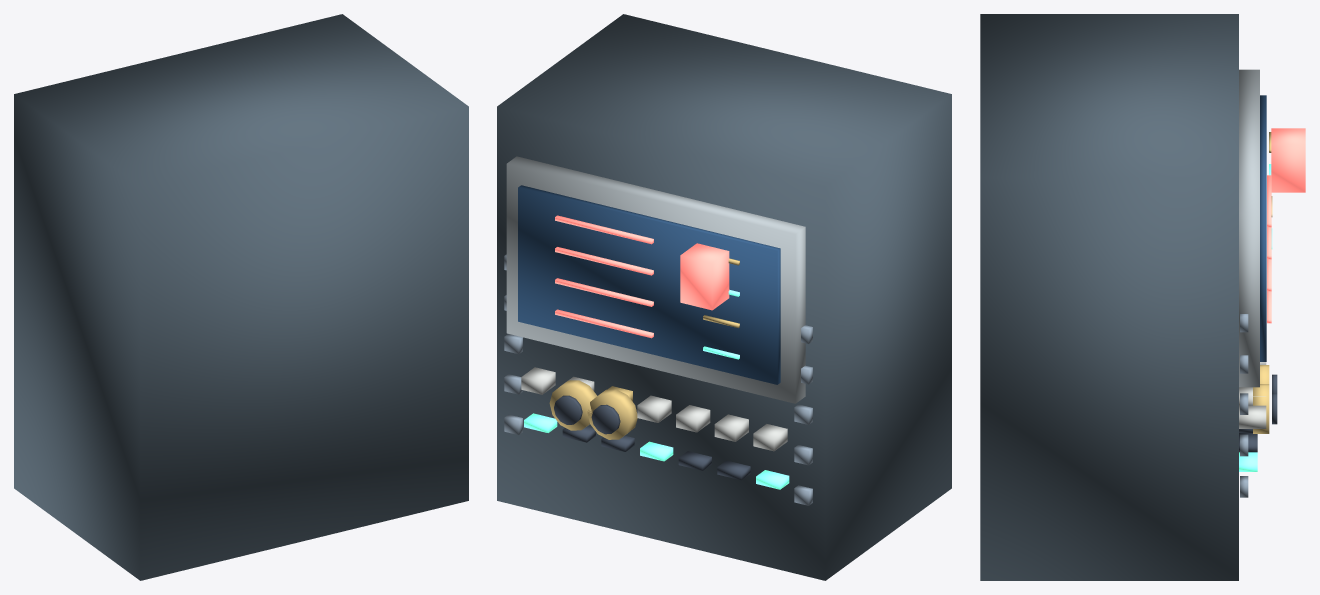
File: L84_74_EmergencyAttitudeStopStation_Fitted.fbx
The picture shows the model from 3 angles, left to right: view 1: azimuth 30°, elevation 25°; view 2: azimuth 150°, elevation 25°; view 3: azimuth 270°, elevation 25°; orthographic projection. The views are drawn at different scales.
Visible parts, largest first — view 1: L84_EmergencyAttitudeStopStation_Static__tint1C2933; view 2: L84_EmergencyAttitudeStopStation_Static__tint1C2933, L84_EmergencyAttitudeStopStation_Static__tint0B214A, L84_EmergencyAttitudeStopStation_Static__tint91A3AD, L84_EmergencyAttitudeStopStation_Static__tintFF3B33, L84_EmergencyAttitudeStopStation_Static__tintCCD4CF, L84_EmergencyAttitudeStopStation_Static__tint131B26, L84_EmergencyAttitudeStopStation_Static__tintF2B547, L84_EmergencyAttitudeStopStation_Static__tint59738F, L84_EmergencyAttitudeStopStation_Static__tint2BF0A8; view 3: L84_EmergencyAttitudeStopStation_Static__tint1C2933, L84_EmergencyAttitudeStopStation_Static__tint91A3AD, L84_EmergencyAttitudeStopStation_Static__tintFF3B33, L84_EmergencyAttitudeStopStation_Static__tint0B214A, L84_EmergencyAttitudeStopStation_Static__tint59738F, L84_EmergencyAttitudeStopStation_Static__tintF2B547, L84_EmergencyAttitudeStopStation_Static__tintCCD4CF, L84_EmergencyAttitudeStopStation_Static__tint131B26, L84_EmergencyAttitudeStopStation_Static__tint2BF0A8.
Part boxes in pixels (x1=…): L84_EmergencyAttitudeStopStation_Static__tint1C2933: x1=14, y1=14, x2=468, y2=580; L84_EmergencyAttitudeStopStation_Static__tint1C2933: x1=497, y1=14, x2=951, y2=580; L84_EmergencyAttitudeStopStation_Static__tint0B214A: x1=518, y1=185, x2=780, y2=384; L84_EmergencyAttitudeStopStation_Static__tint91A3AD: x1=506, y1=156, x2=805, y2=403; L84_EmergencyAttitudeStopStation_Static__tintFF3B33: x1=555, y1=215, x2=729, y2=338; L84_EmergencyAttitudeStopStation_Static__tintCCD4CF: x1=521, y1=367, x2=787, y2=451; L84_EmergencyAttitudeStopStation_Static__tint131B26: x1=554, y1=395, x2=750, y2=480; L84_EmergencyAttitudeStopStation_Static__tintF2B547: x1=549, y1=258, x2=739, y2=439; L84_EmergencyAttitudeStopStation_Static__tint59738F: x1=504, y1=254, x2=812, y2=505; L84_EmergencyAttitudeStopStation_Static__tint2BF0A8: x1=524, y1=289, x2=789, y2=489; L84_EmergencyAttitudeStopStation_Static__tint1C2933: x1=980, y1=14, x2=1238, y2=580; L84_EmergencyAttitudeStopStation_Static__tint91A3AD: x1=1239, y1=69, x2=1259, y2=387; L84_EmergencyAttitudeStopStation_Static__tintFF3B33: x1=1267, y1=128, x2=1305, y2=323; L84_EmergencyAttitudeStopStation_Static__tint0B214A: x1=1260, y1=95, x2=1266, y2=361; L84_EmergencyAttitudeStopStation_Static__tint59738F: x1=1240, y1=314, x2=1248, y2=497; L84_EmergencyAttitudeStopStation_Static__tintF2B547: x1=1253, y1=132, x2=1272, y2=433; L84_EmergencyAttitudeStopStation_Static__tintCCD4CF: x1=1239, y1=362, x2=1266, y2=428; L84_EmergencyAttitudeStopStation_Static__tint131B26: x1=1239, y1=374, x2=1277, y2=452; L84_EmergencyAttitudeStopStation_Static__tint2BF0A8: x1=1239, y1=164, x2=1272, y2=471.
Bounding box in the file's own units: 9.6 × 11.01 × 8.04.
